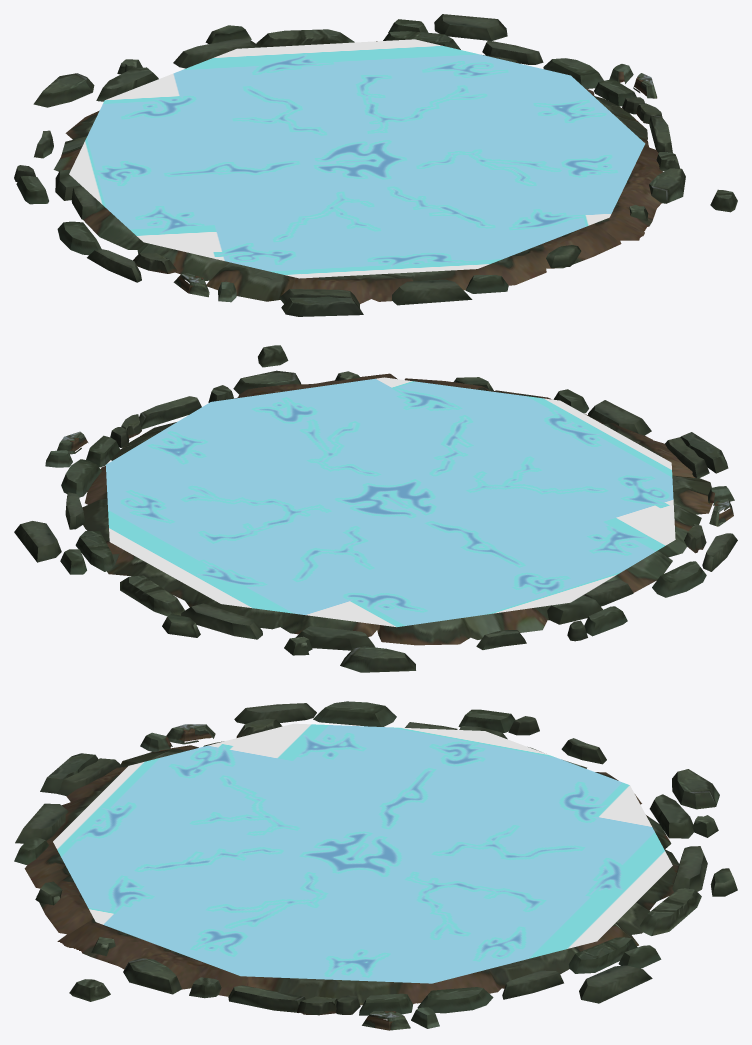
The model's file is Battle01_Method_03.FBX.
The picture shows the model from 3 angles, top to bottom: view 1: azimuth 30°, elevation 25°; view 2: azimuth 150°, elevation 25°; view 3: azimuth 270°, elevation 25°; orthographic projection. The views are drawn at different scales.
Parts seen in each view (by area): view 1: C01_Method_03_ncl1_1, C01_Method_03; view 2: C01_Method_03_ncl1_1, C01_Method_03; view 3: C01_Method_03_ncl1_1, C01_Method_03.
Part boxes in pixels (left/top/right/bottom): C01_Method_03_ncl1_1: left=69, top=39, right=645, bottom=278; C01_Method_03: left=14, top=14, right=737, bottom=316; C01_Method_03_ncl1_1: left=106, top=377, right=675, bottom=627; C01_Method_03: left=14, top=345, right=737, bottom=672; C01_Method_03_ncl1_1: left=53, top=723, right=672, bottom=983; C01_Method_03: left=14, top=701, right=737, bottom=1030.
Bounding box in the file's own units: 11.17 × 0.223 × 10.68.
